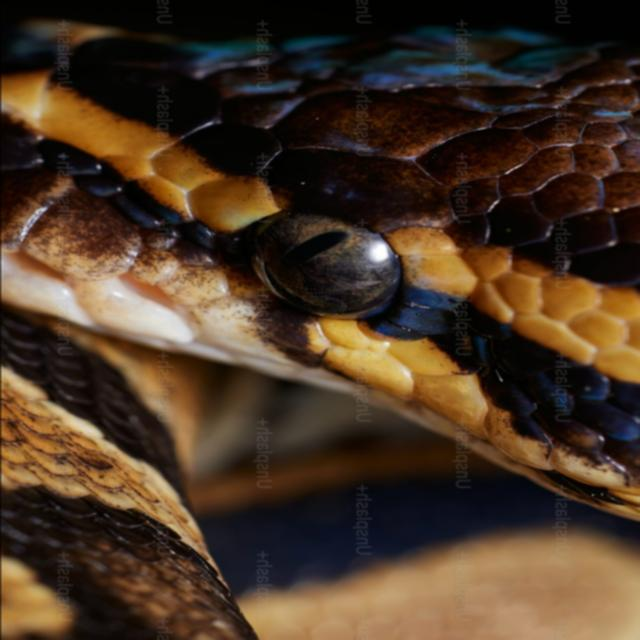Snake: (0, 18, 640, 556)
